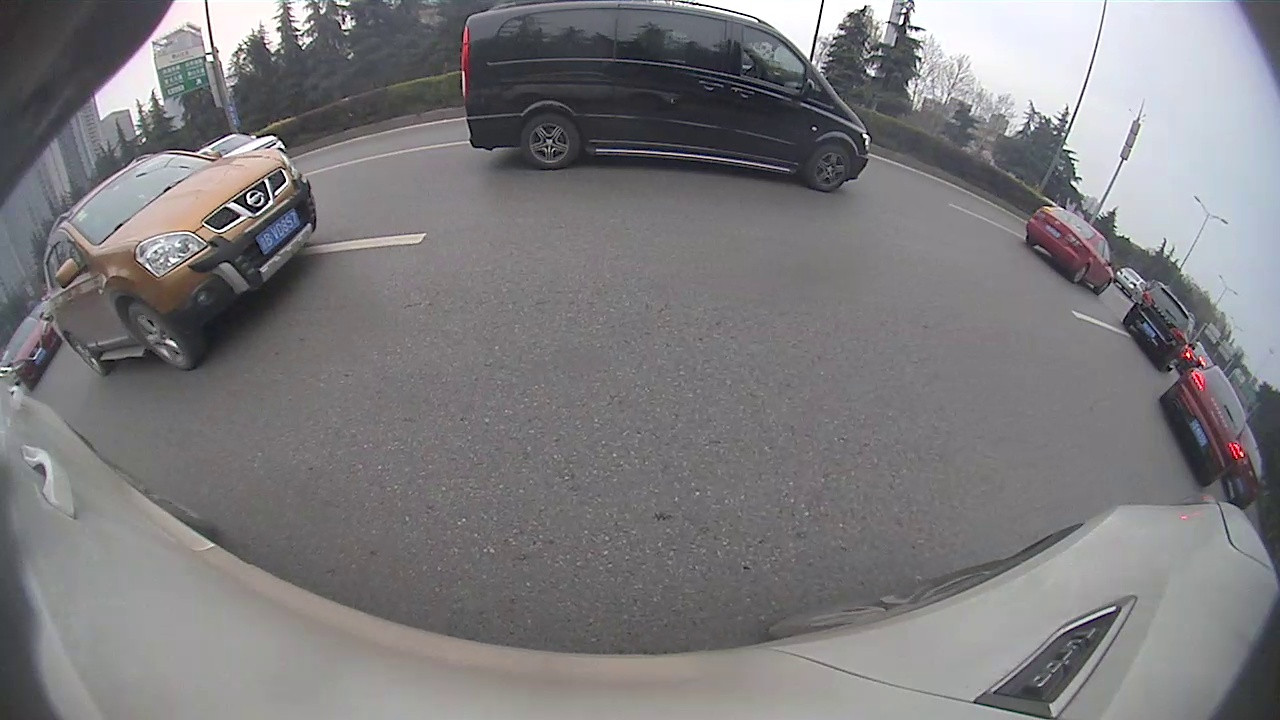car: (459, 3, 873, 194), (44, 150, 317, 375), (1158, 361, 1247, 488), (1027, 203, 1117, 295), (1118, 288, 1197, 369), (4, 318, 61, 391), (1121, 261, 1147, 296)
front: (126, 303, 195, 369), (805, 146, 853, 194)
rear: (518, 115, 582, 172), (64, 332, 103, 373), (1073, 263, 1090, 283)
